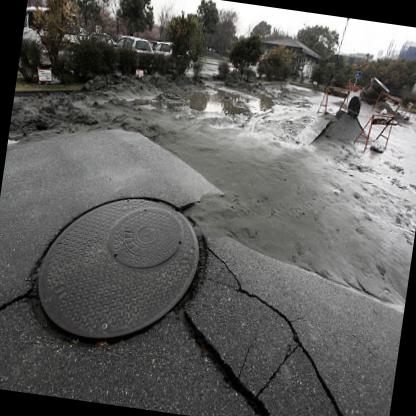manholes: (17, 163, 226, 371)
